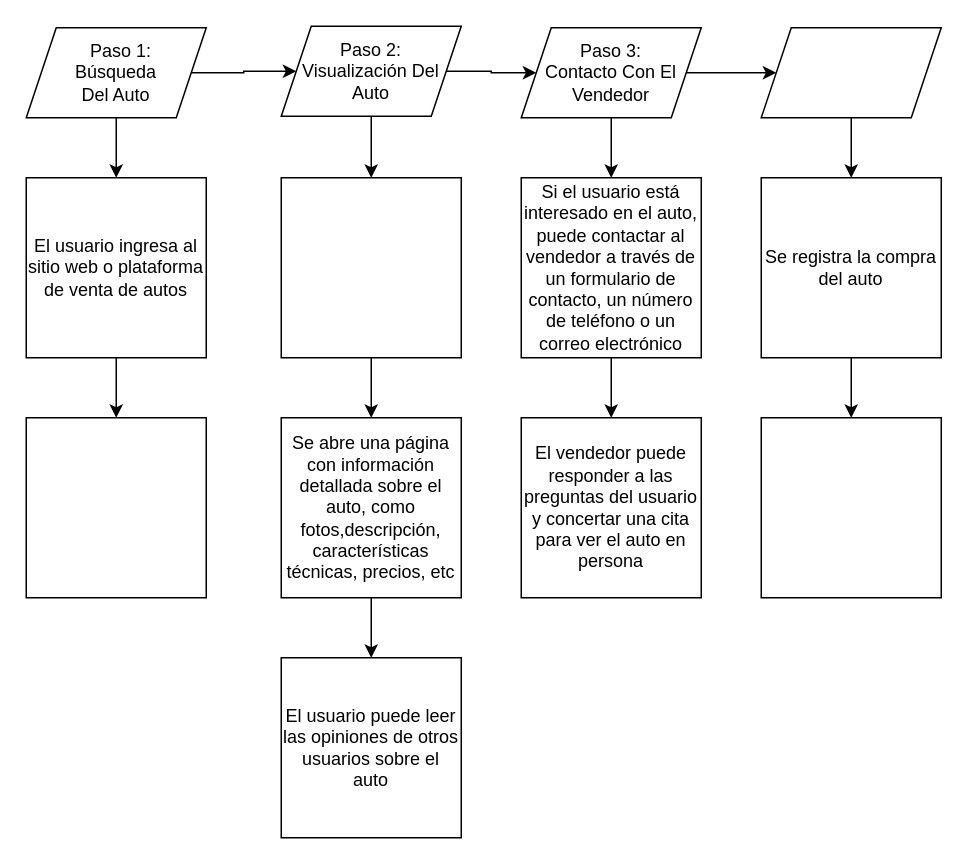
Image size: 968x864. Some labels were removed from this diagram. The centre of each missing label's shape, as x and y in pixels:
"El usuario selecciona un auto del listado" belongs at point (370, 267).
"Finalmente, el usuario recibe el auto y puede disfrutar de el" belongs at point (850, 507).
"Paso 4: Registro Y Entrega Del Auto" belongs at point (850, 72).
"Puede navegar por las diferentes categorías de autos o ver autos destacados" belongs at point (115, 507).
